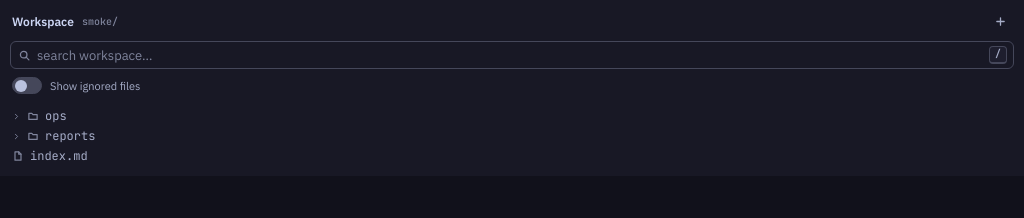
Test: lists the workspace tree with directories collapsed
Check: the button with test id "file-node-index.md" is shown, box [6,146,1018,166]
Click the button "ops".
click(16, 116)  # box [6,106,1018,126]
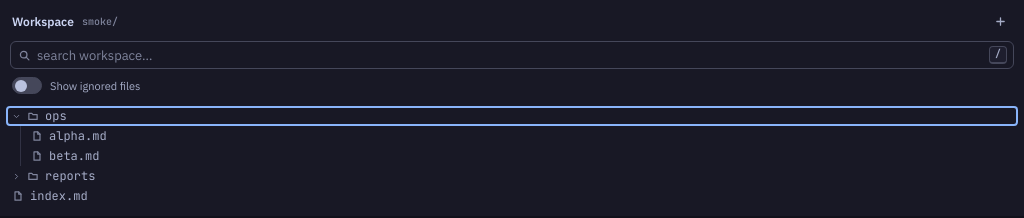
Check: the button with test id "file-node-ops/alpha.md" is shown, box [25,126,1018,146]
